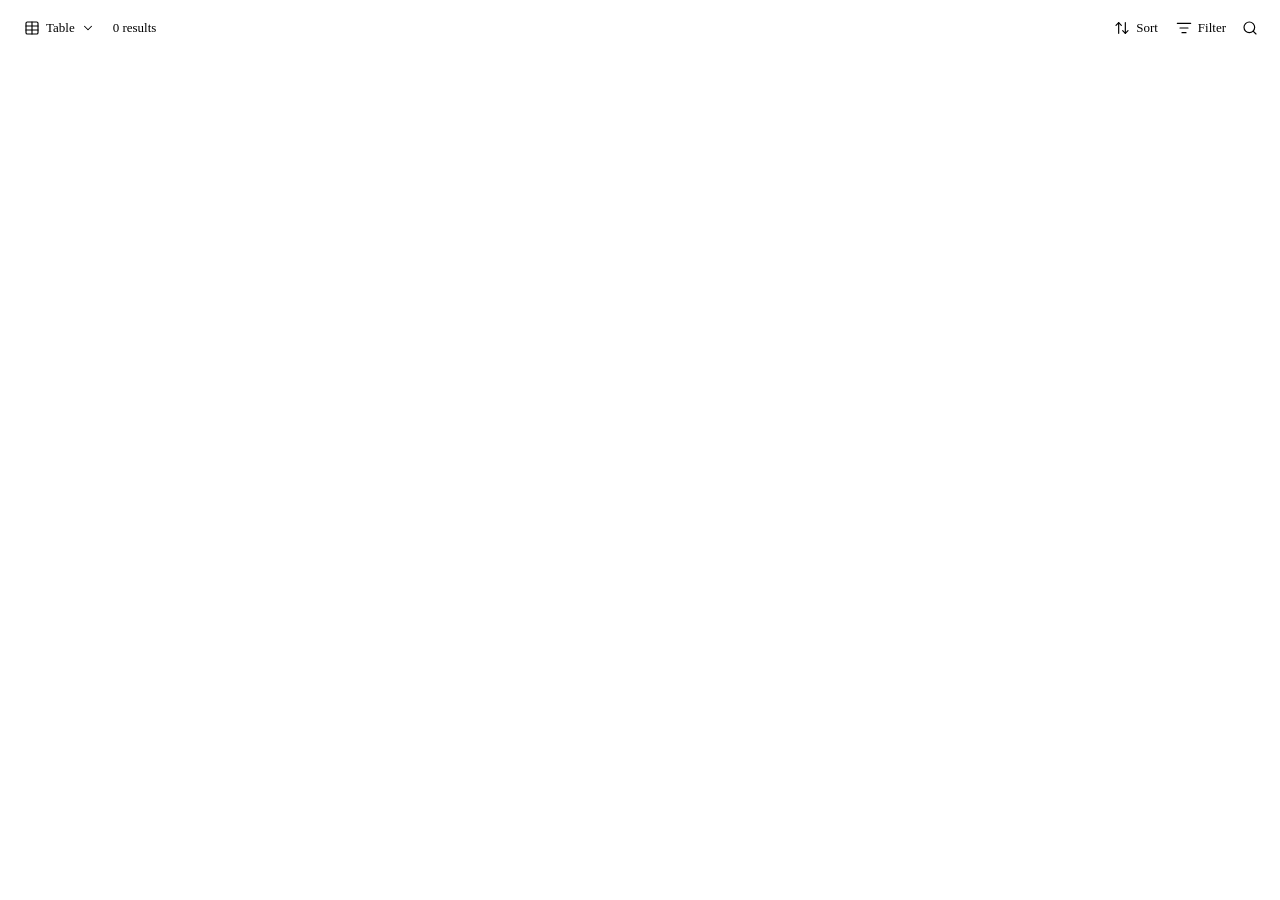
it: Filter popover rows (#617) › keeps an added row when the popover closes and reopens
Click the button "Filter" at (1201, 28), box [1168,14,1234,42]
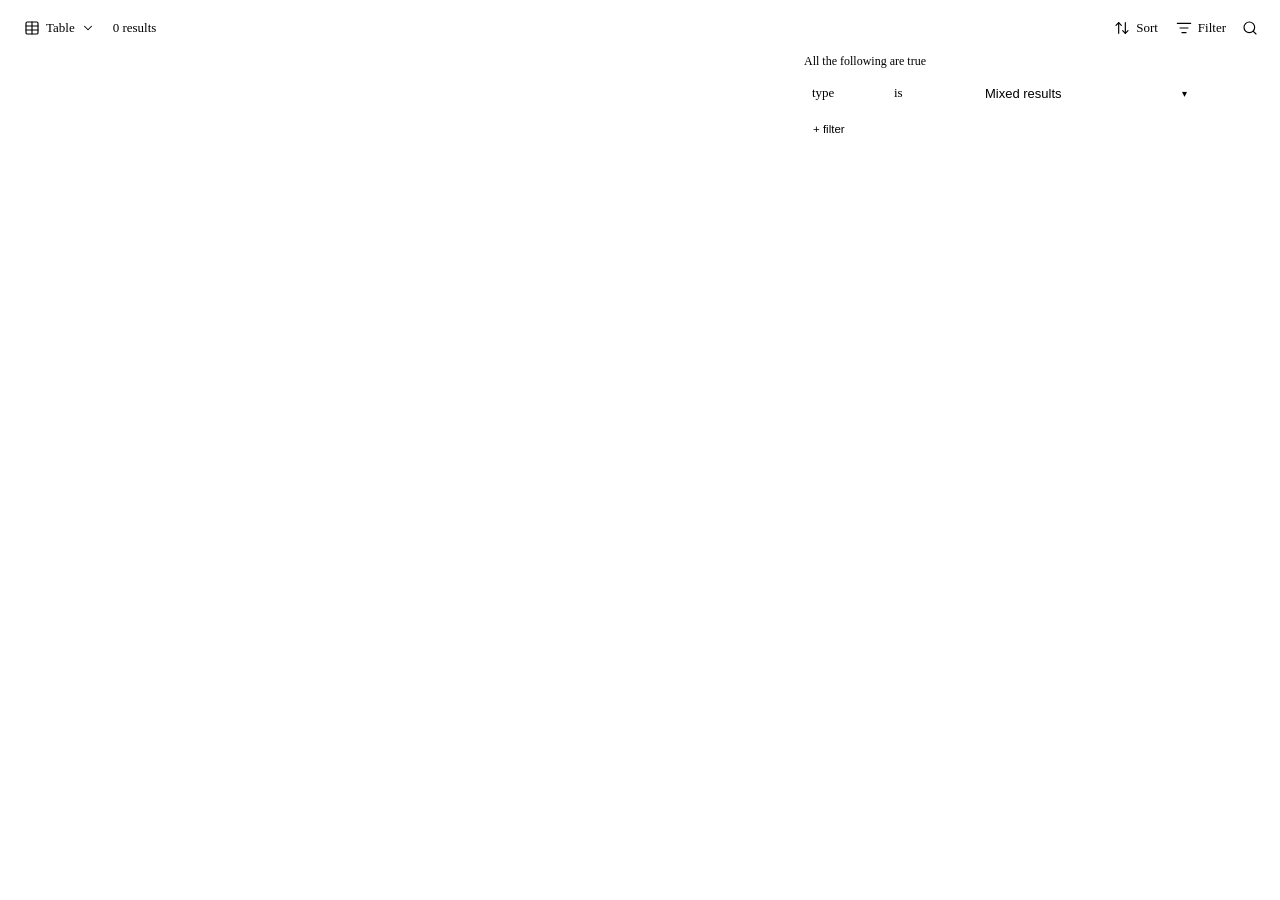
Click the button "+ filter" at (829, 129), box [804,117,854,141]
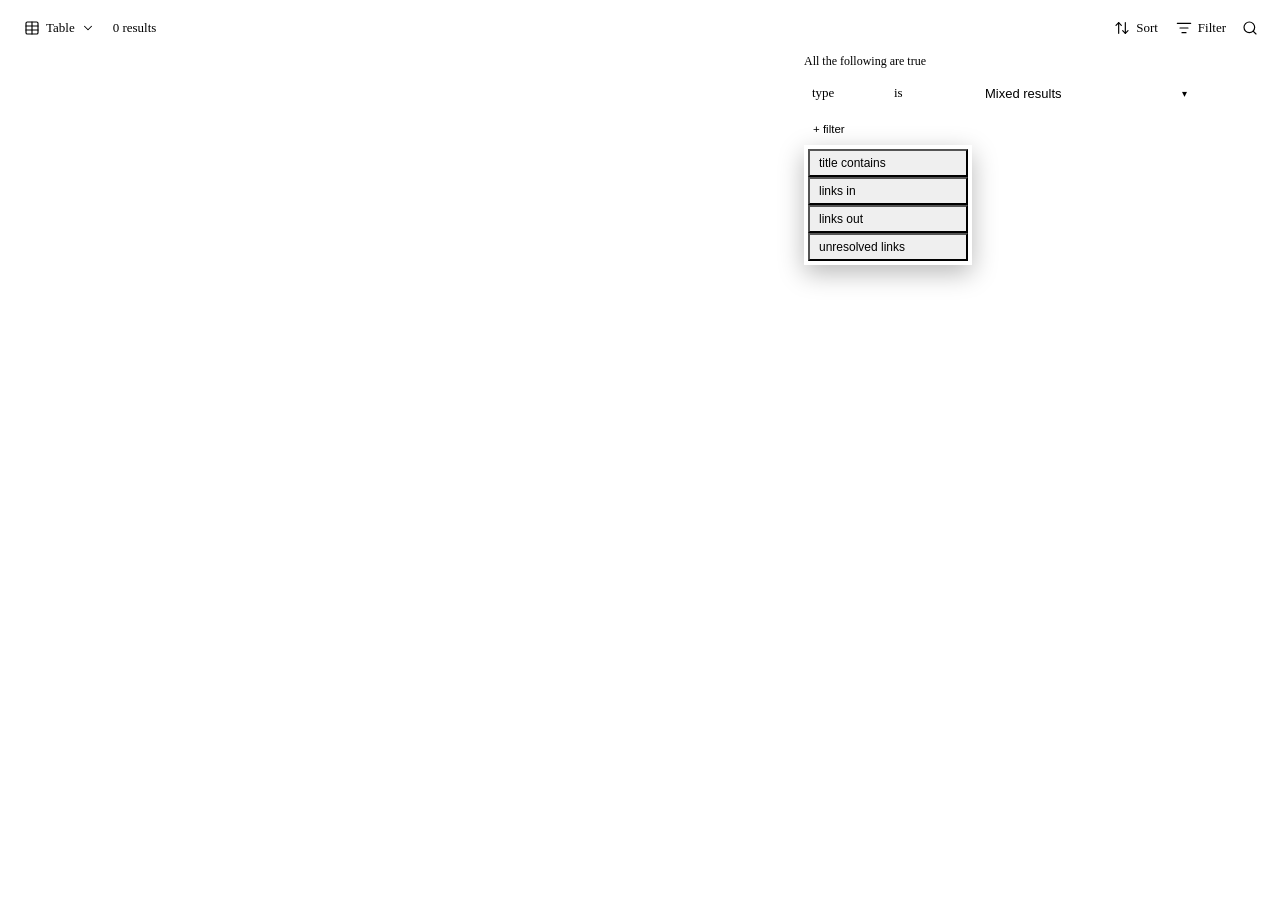
Click the menu item "links in" at (888, 191), box [808,177,968,205]
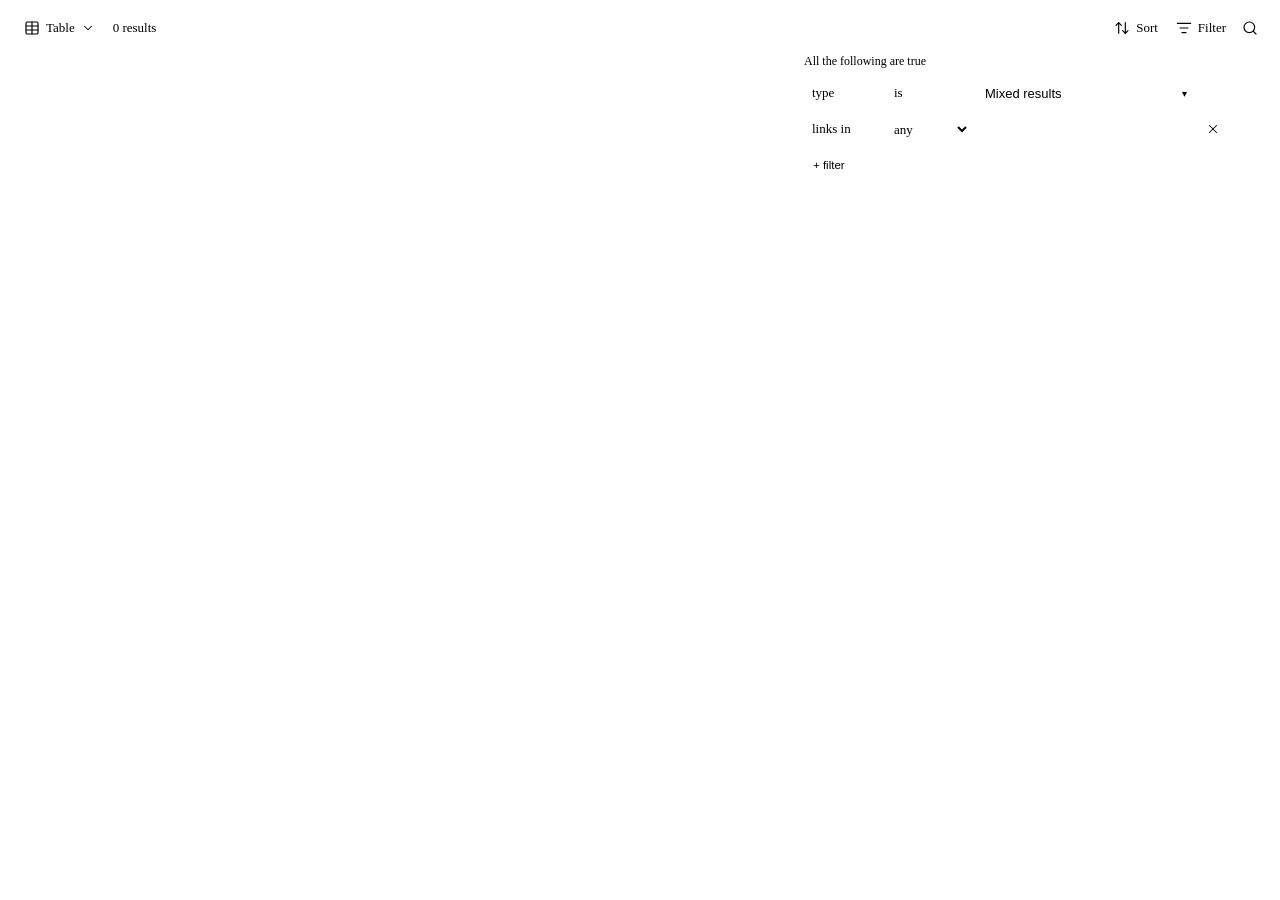
Click the button "Filter" at (1201, 28), box [1168,14,1234,42]
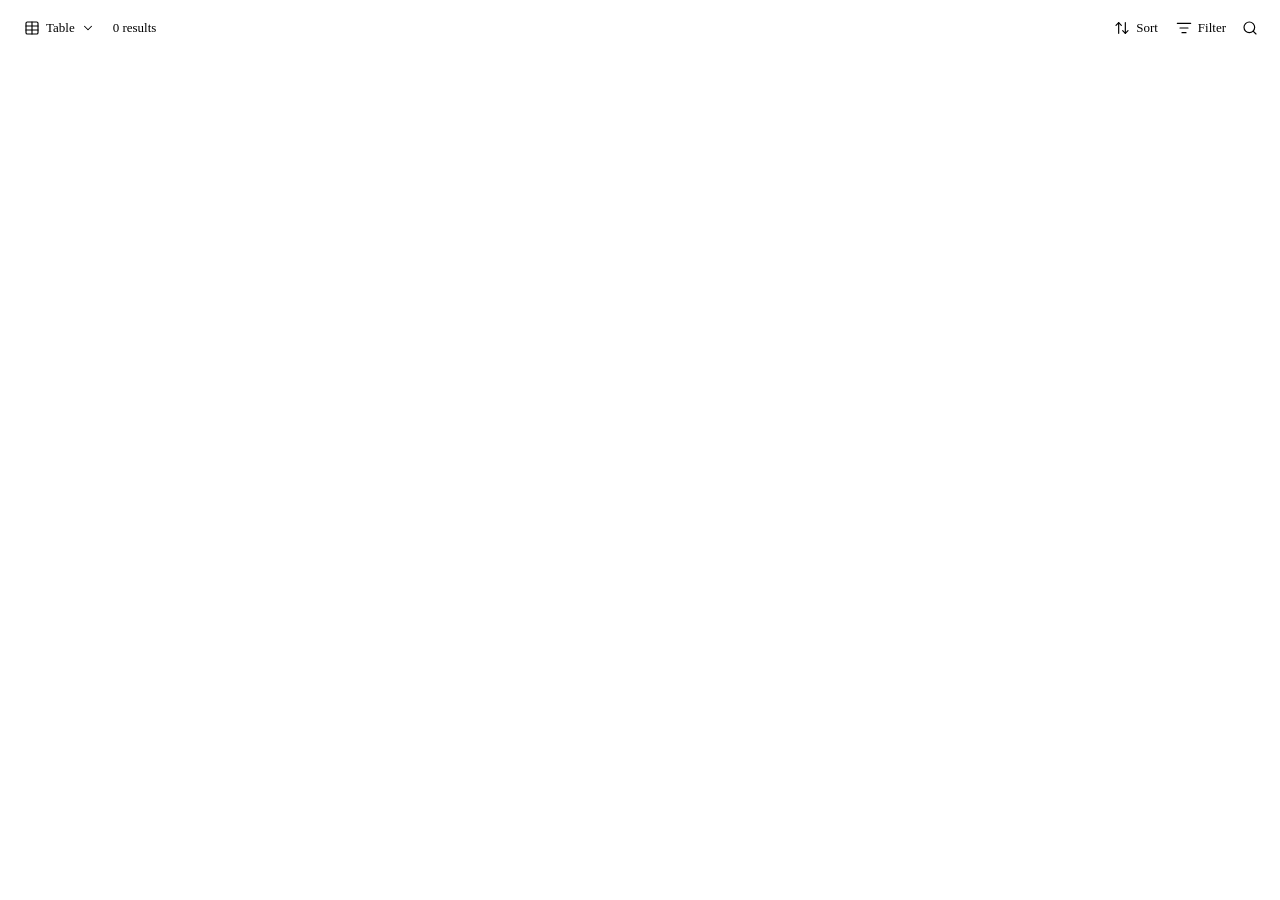
Click the button "Filter" at (1201, 28), box [1168,14,1234,42]
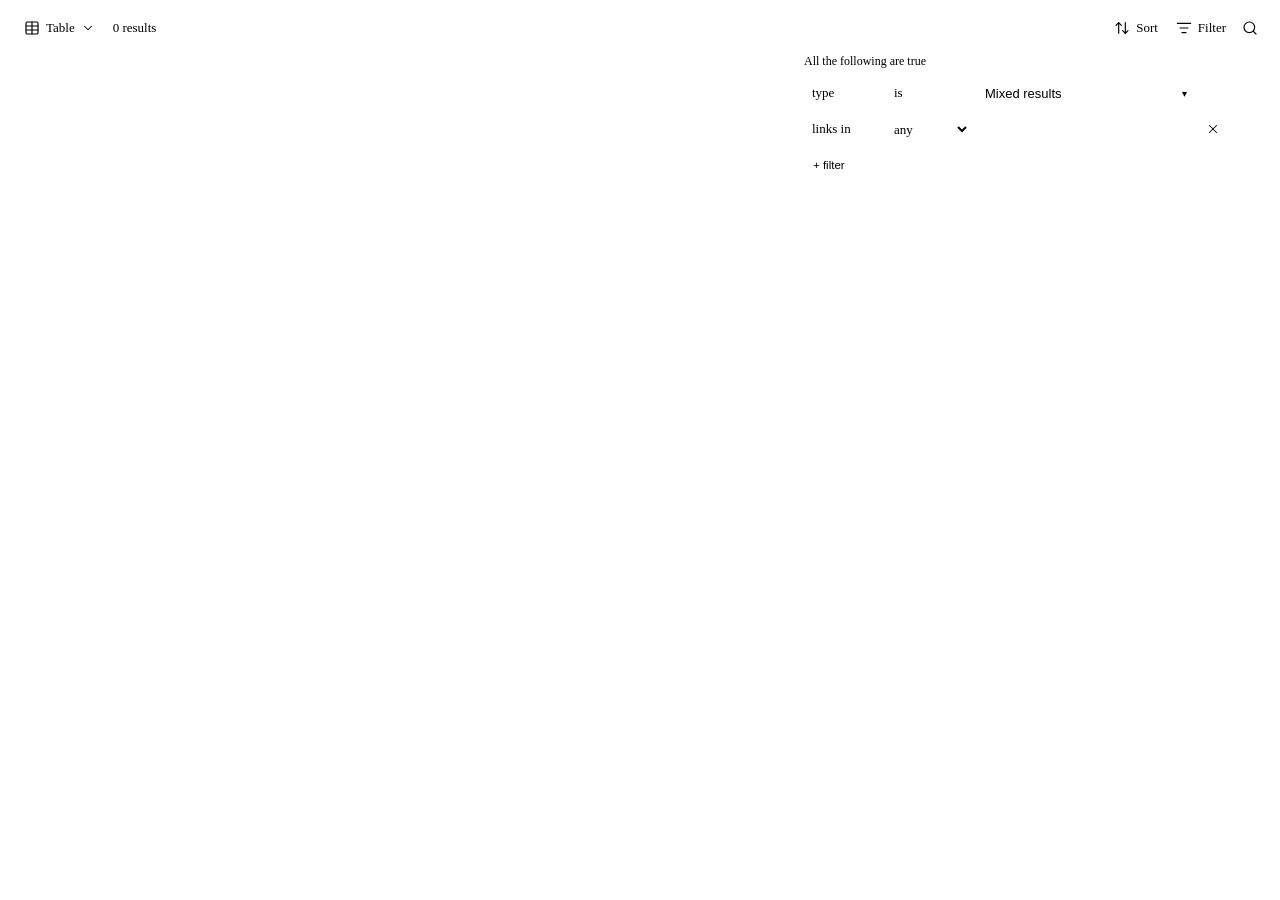
Expected: the dropdown named "links in comparison" is shown, [886,115,970,143]
